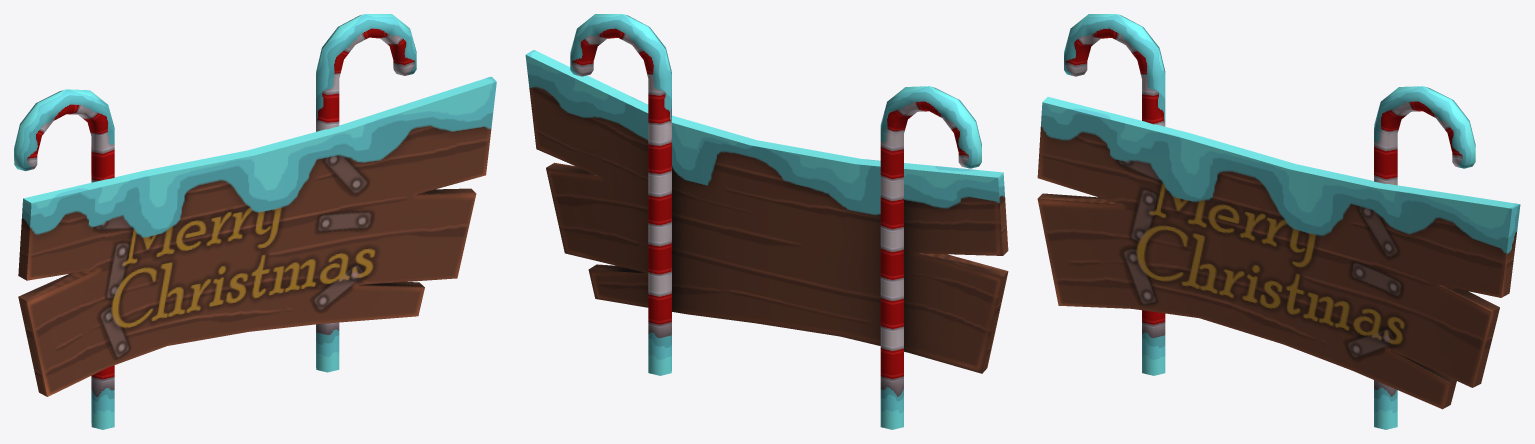
Rendered from Big_SignBoard.FBX.
3 views of the same model, side by side, from view 1: azimuth 30°, elevation 25°; view 2: azimuth 150°, elevation 25°; view 3: azimuth 330°, elevation 25° (orthographic).
Parts seen in each view (by area): view 1: Line019; view 2: Line019; view 3: Line019.
Part boxes in pixels (x1,y1,x2,y2): Line019: (14,14,496,429); Line019: (525,14,1008,429); Line019: (1037,14,1520,429).
Size of the model in its own units: 72.47 by 50.34 by 7.37.
Materials: 1 (1 with a texture image).
